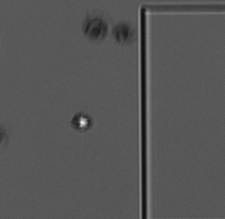Dead Cell: (85, 19, 107, 40), (112, 22, 132, 45)
Living Cell: (71, 113, 91, 132)
